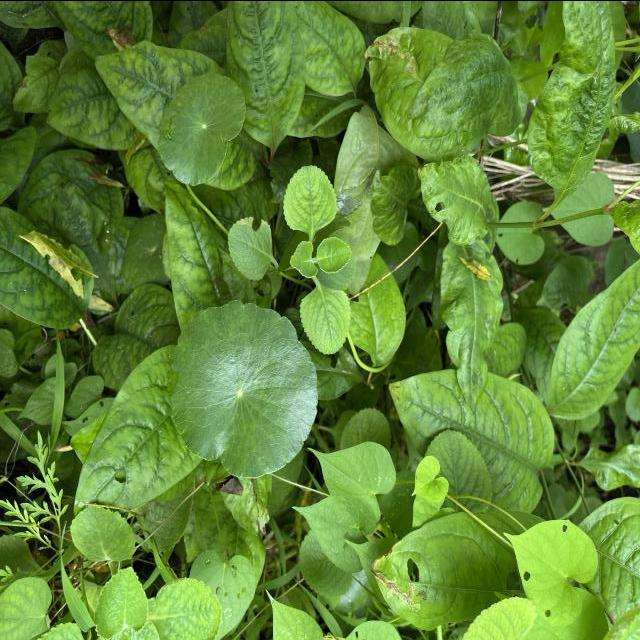Bacopa monnieri: (164, 298, 320, 480), (156, 70, 248, 186)
